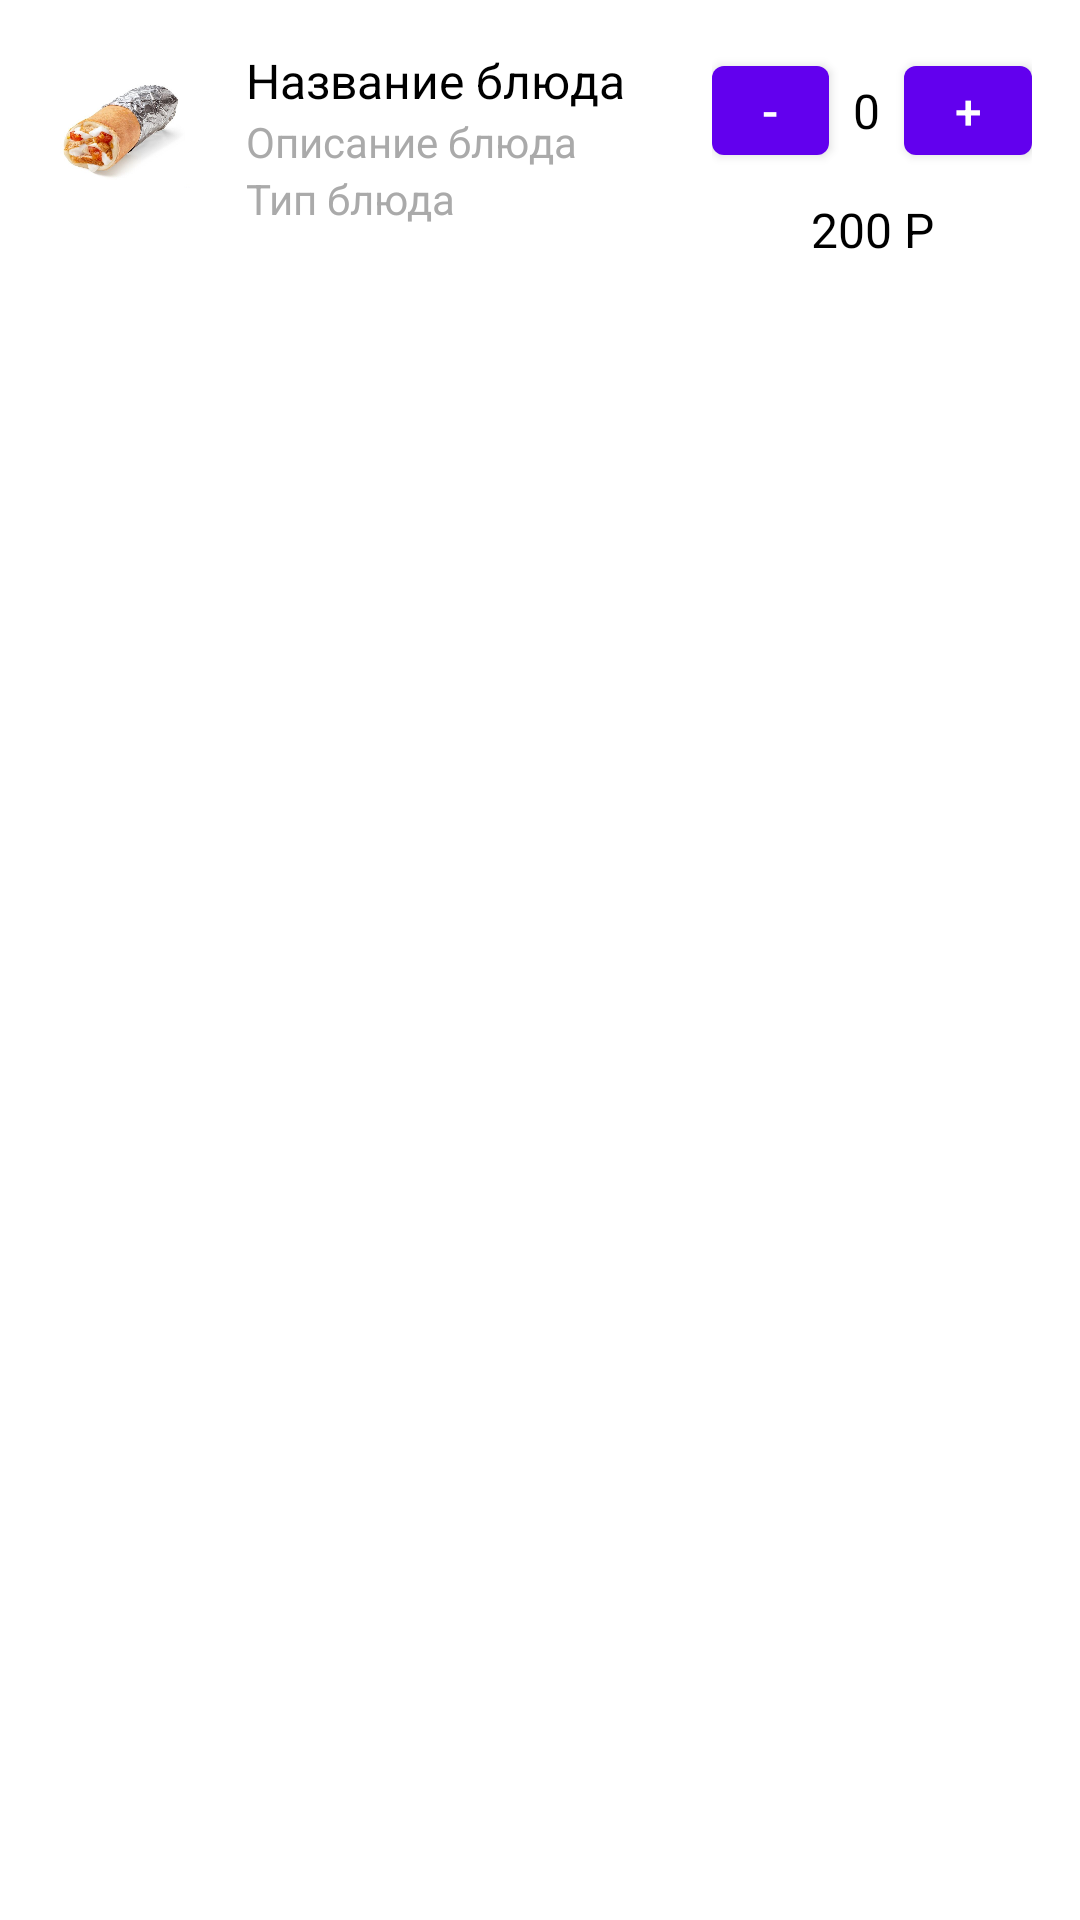

Point at icon controls on the screen. Image size 1080 × 1920, points as point (x, y).
dodster: point (121, 131)
